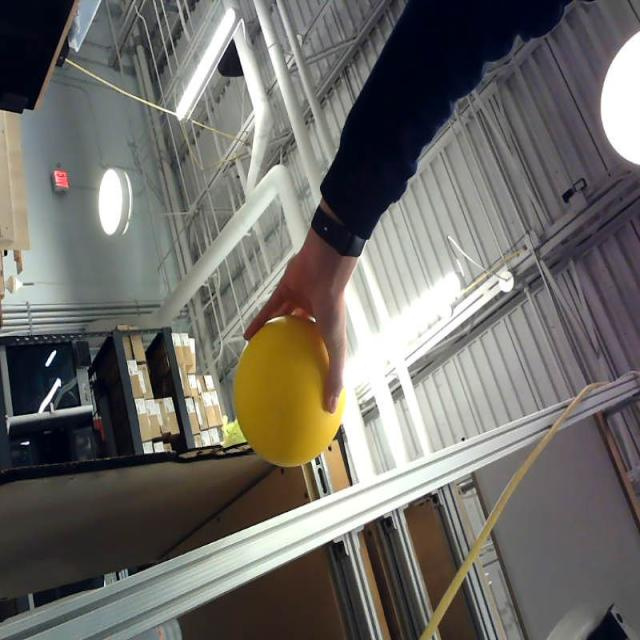Fuel: (234, 314, 346, 467)
